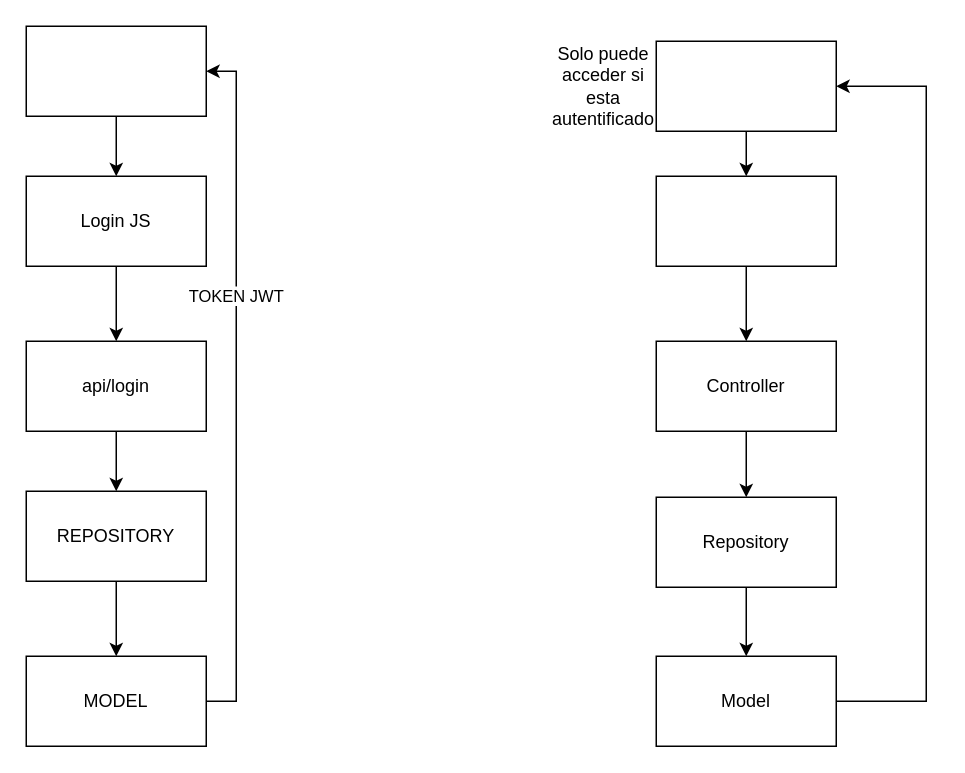
Some shapes in this 965 by 773 pixel diagram are drawn without their labels. The shapes that lost their labels are listed below. From the top down, each one's centre as x and y in pixels, then its label:
point (115, 70): Login Html
point (745, 85): Cambiar Password
point (745, 220): JS
